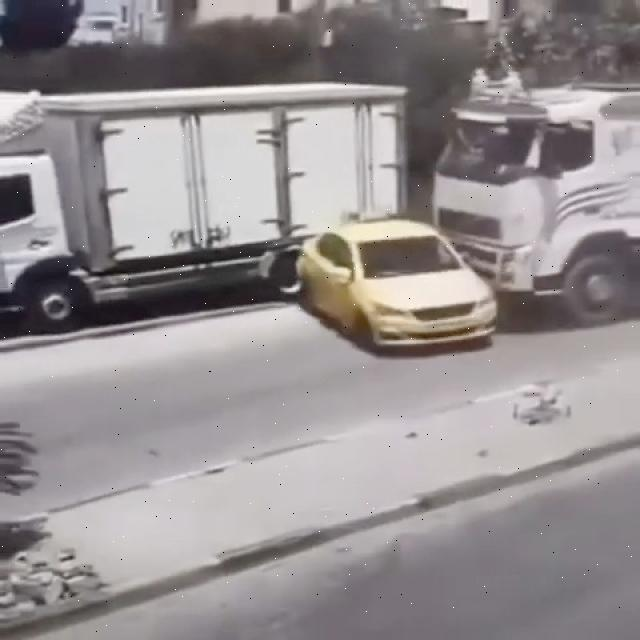accident: (299, 159, 640, 345)
